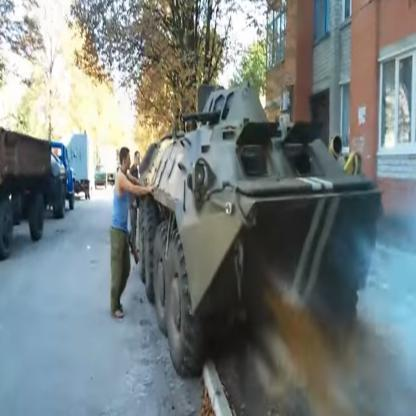MIL_IFV: (133, 85, 381, 377)
